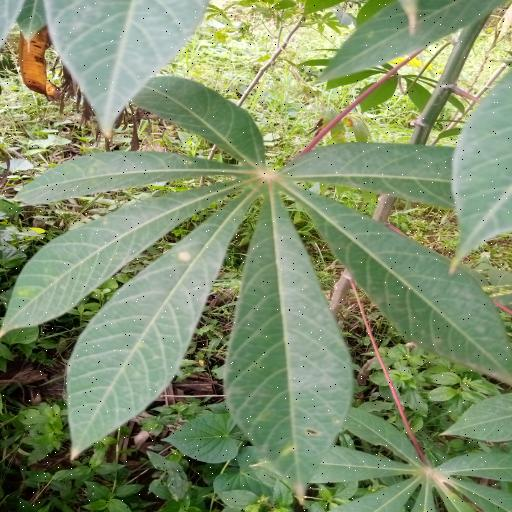Cassava_Brown_Leaf_Spot: (3, 72, 512, 490)
